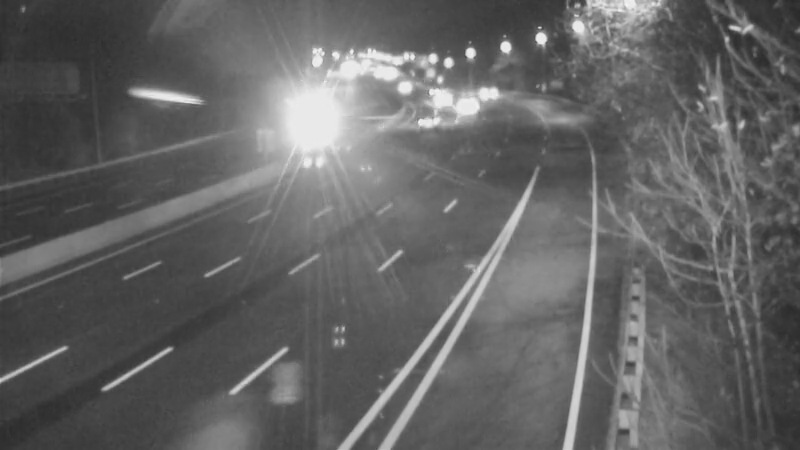vehicle: (378, 64, 428, 114), (409, 68, 459, 118), (465, 66, 515, 116), (415, 73, 465, 123), (442, 79, 492, 129), (400, 97, 450, 147), (285, 99, 335, 149)
